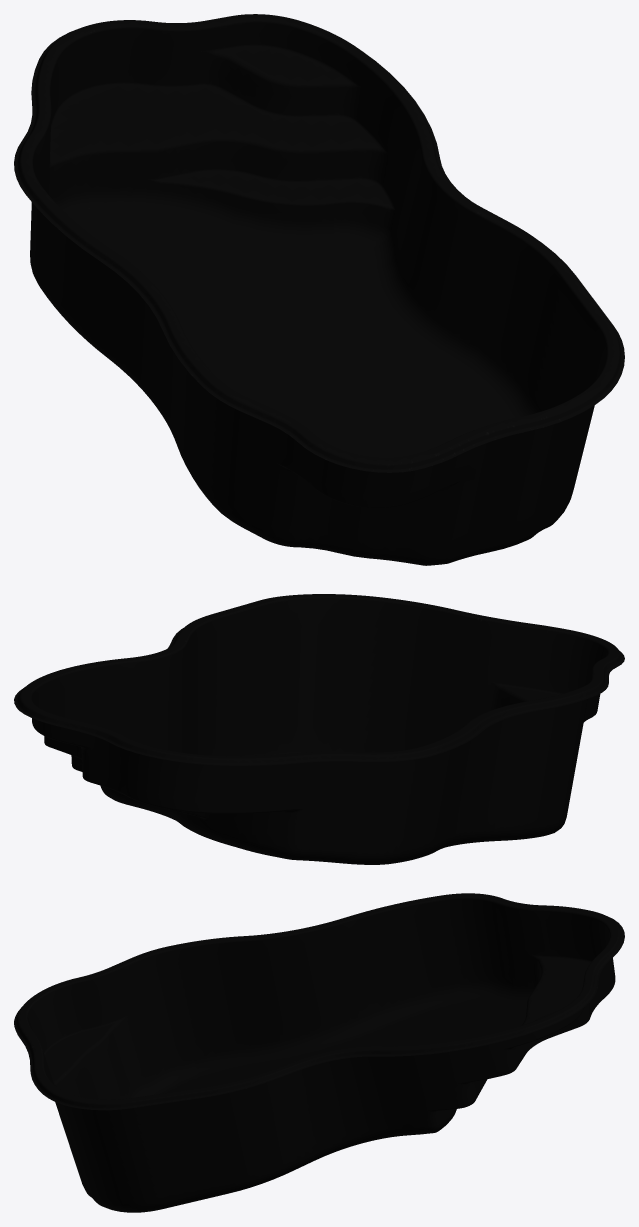
The model's file is Arialla.glb.
The picture shows the model from 3 angles, top to bottom: view 1: azimuth 30°, elevation 25°; view 2: azimuth 150°, elevation 25°; view 3: azimuth 270°, elevation 25°; orthographic projection. The views are drawn at different scales.
Visible parts, largest first — view 1: node_id5; view 2: node_id5; view 3: node_id5.
Boxes of the visible parts, box(x1,y1,x2,y2) form: node_id5: box(14, 14, 624, 565); node_id5: box(14, 594, 624, 864); node_id5: box(14, 893, 624, 1212).
Bounding box in the file's own units: 0.2474 × 0.1759 × 0.4223.
Materials: 1 (1 with a texture image).
